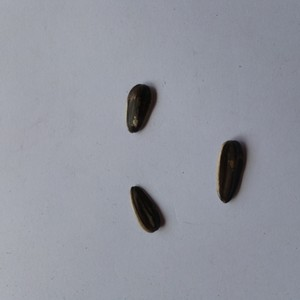girasol: (217, 138, 246, 206), (129, 183, 164, 235), (124, 81, 154, 135)
